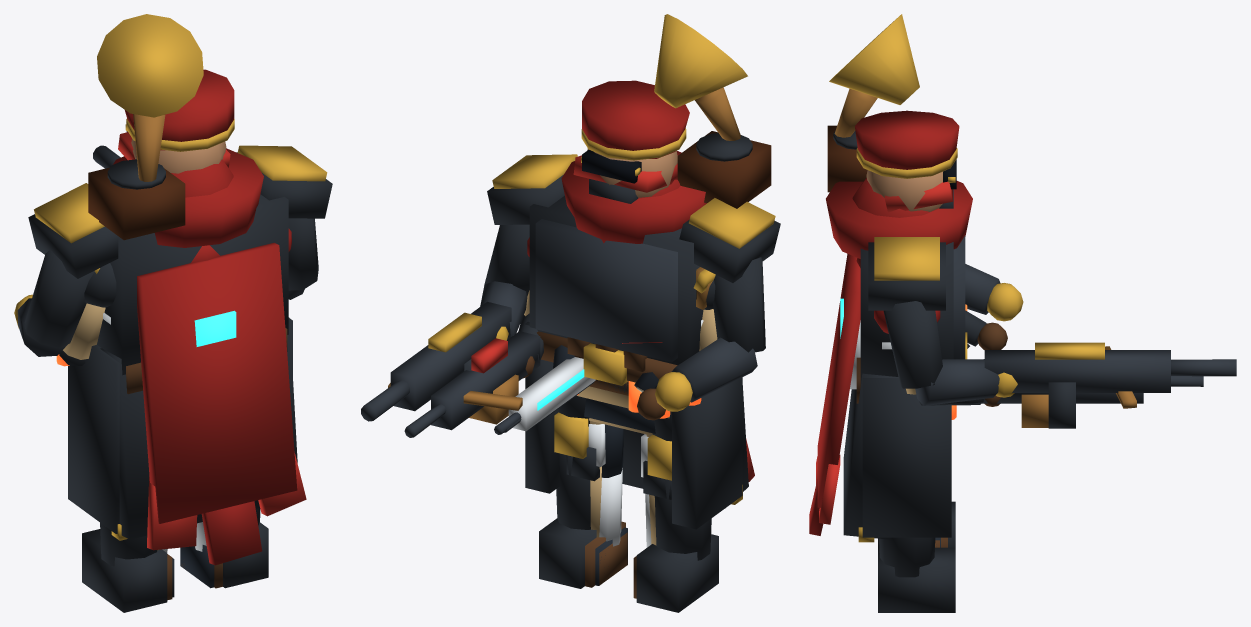
File: v090_ahsarah_characters.glb
3 views of the same model, side by side, from view 1: azimuth 30°, elevation 25°; view 2: azimuth 150°, elevation 25°; view 3: azimuth 270°, elevation 25° (orthographic). The views are drawn at different scales.
Visible parts, largest first — view 1: reis_body, saeed_cloak_pivot, reis_gramophone, reis_arm_l, saeed_body, haavk_trooper, reis_arm_r, saeed_arm_l; view 2: reis_body, reis_gramophone, reis_arm_r, haavk_trooper, reis_arm_l, saeed_body, saeed_arm_r, ahsarah_guard, saeed_arm_l; view 3: reis_body, reis_arm_r, reis_gramophone, saeed_cloak_pivot, saeed_arm_r, saeed_body, reis_arm_l, saeed_arm_l.
Boxes of the visible parts, x1,y1,x2,y2 form: reis_body: [28, 69, 332, 612]; saeed_cloak_pivot: [137, 242, 306, 565]; reis_gramophone: [88, 14, 203, 240]; reis_arm_l: [14, 249, 94, 356]; saeed_body: [84, 132, 291, 600]; haavk_trooper: [103, 310, 236, 597]; reis_arm_r: [93, 145, 318, 299]; saeed_arm_l: [56, 303, 105, 366]; reis_body: [487, 80, 780, 612]; reis_gramophone: [654, 14, 771, 208]; reis_arm_r: [361, 224, 529, 421]; haavk_trooper: [494, 320, 703, 585]; reis_arm_l: [655, 257, 765, 411]; saeed_body: [527, 155, 715, 598]; saeed_arm_r: [388, 290, 543, 437]; ahsarah_guard: [504, 381, 652, 585]; saeed_arm_l: [637, 309, 717, 420]; reis_body: [826, 110, 972, 612]; reis_arm_r: [883, 301, 1236, 428]; reis_gramophone: [827, 14, 919, 192]; saeed_cloak_pivot: [809, 253, 860, 535]; saeed_arm_r: [906, 346, 1203, 427]; saeed_body: [852, 178, 956, 547]; reis_arm_l: [965, 264, 1023, 321]; saeed_arm_l: [965, 304, 1007, 349].
Size of the model in its own units: 1.59 by 3.09 by 2.21.
